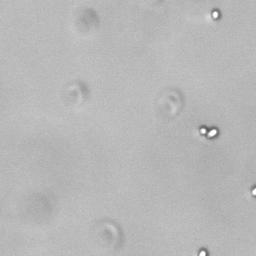budding: (198, 125, 218, 138)
individual: (210, 9, 221, 21), (196, 248, 209, 256)
